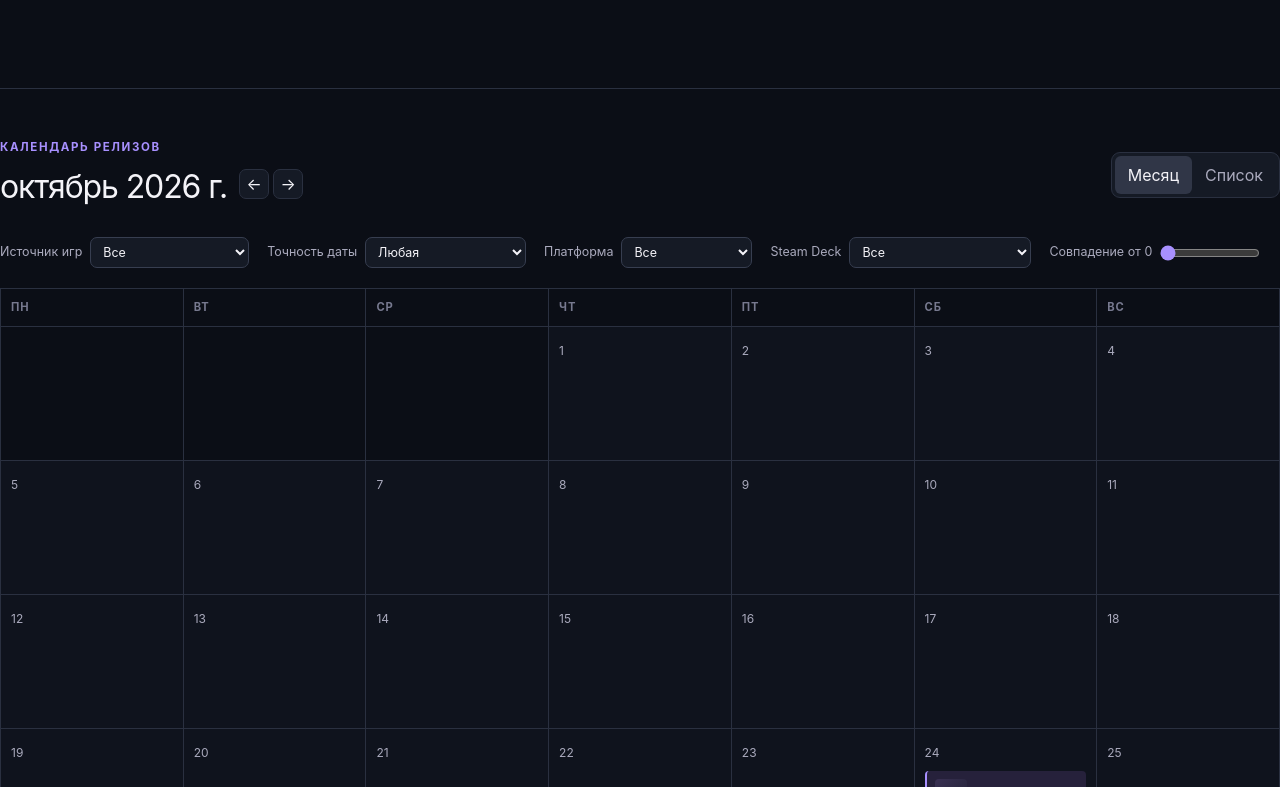
Test case: CalendarPage › keeps month reactions visible but inert in demo mode
Click the button "Месяц" at (1153, 175), box [1115,156,1192,194]
(page scrolled)
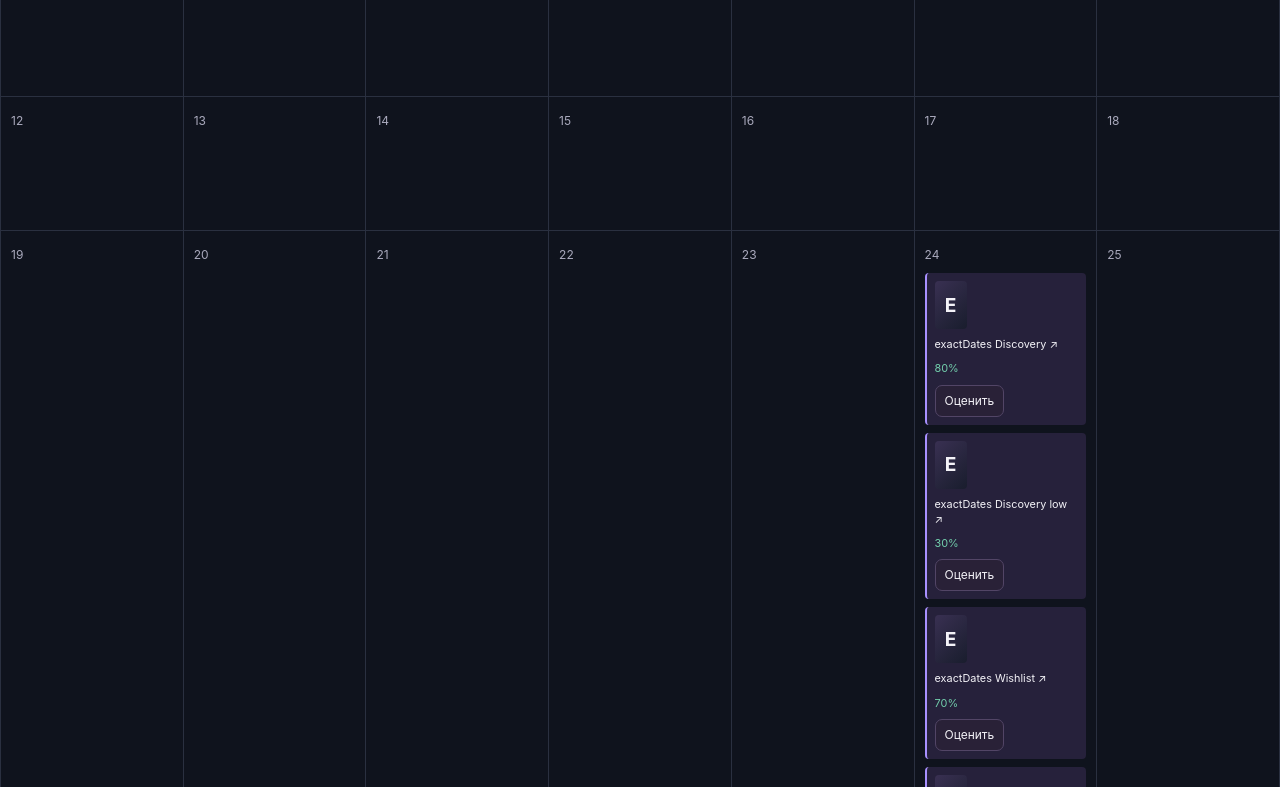
Click the 1st button "Оценить" at (969, 401), box [934,385,1004,417]
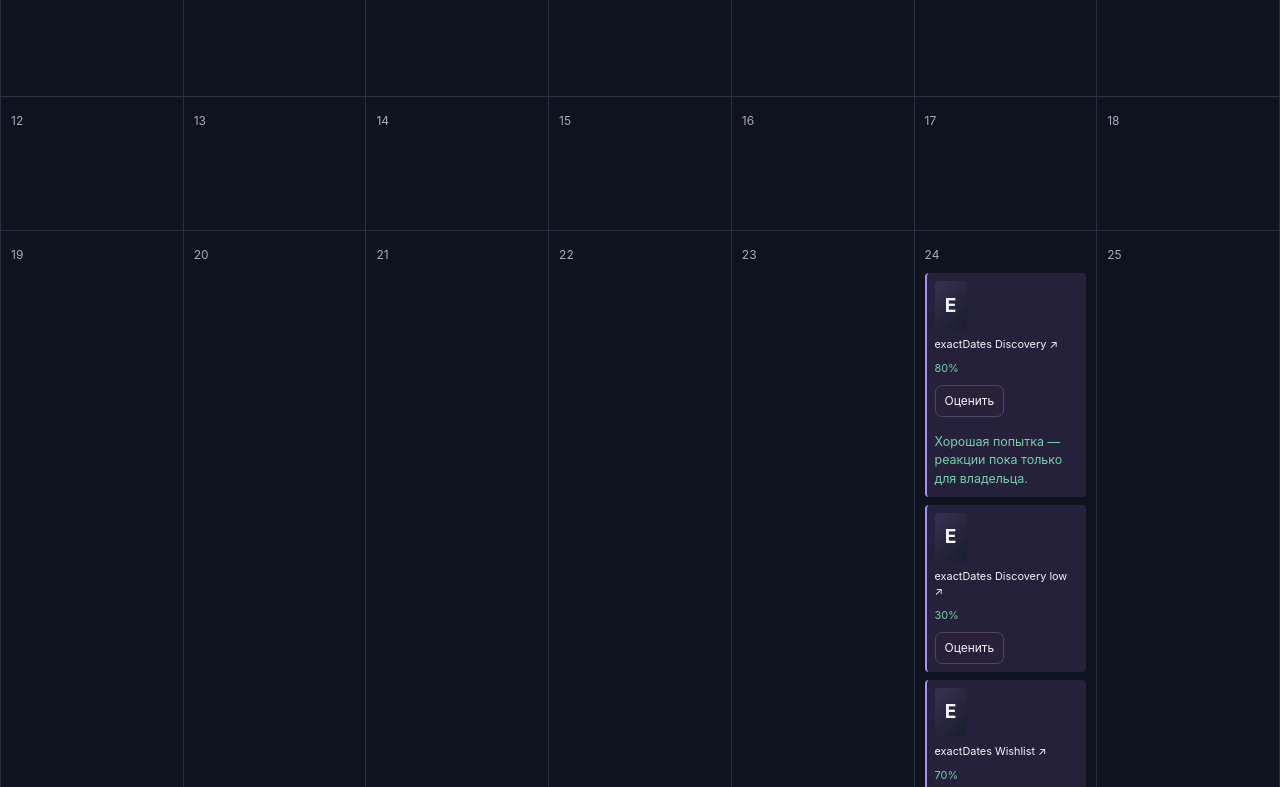
Result: the text "Хорошая попытка — реакции пока только для владельца." is shown at [934,433,1078,489]
